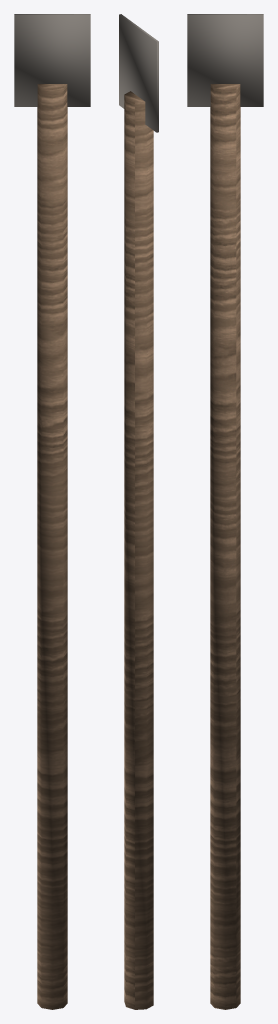
File: shovel.glb
The picture shows the model from 3 angles, left to right: view 1: azimuth 90°, elevation 25°; view 2: azimuth 210°, elevation 25°; view 3: azimuth 270°, elevation 25°; orthographic projection.
Parts seen in each view (by area): view 1: shovel; view 2: shovel; view 3: shovel.
Boxes of the visible parts, left/top/right/bottom form: shovel: left=14, top=14, right=90, bottom=1009; shovel: left=119, top=14, right=158, bottom=1009; shovel: left=187, top=14, right=263, bottom=1009.
Size of the model in its own units: 0.024 by 0.86 by 0.06.
2 materials, 1 textured.
